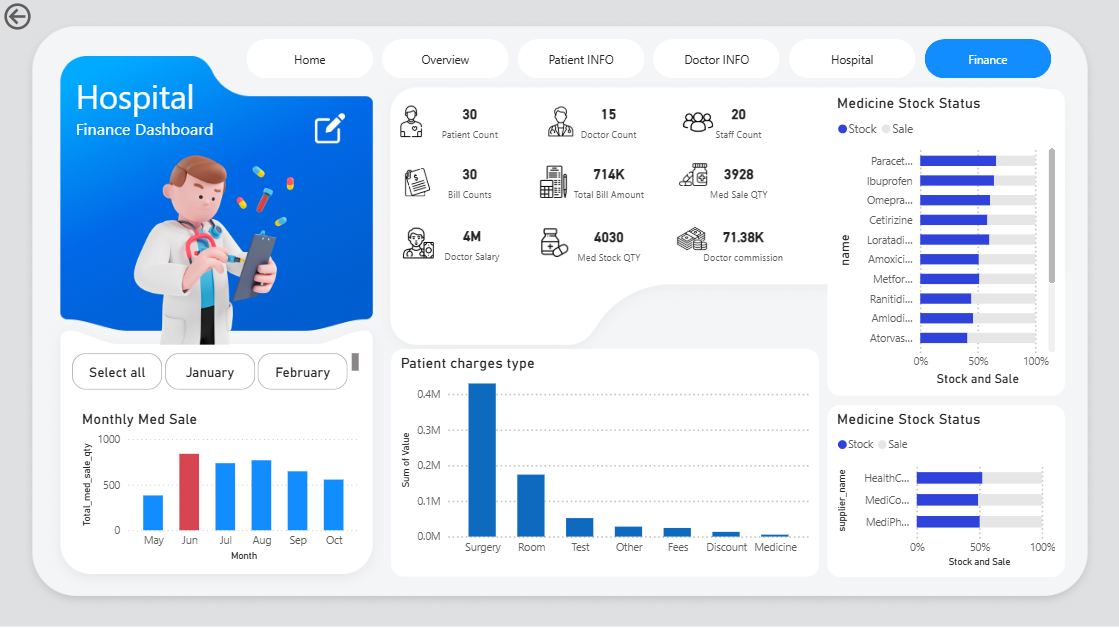

This screenshot's page, from the dashboard's own definition file:
{"tool":"powerbi","page":{"name":"Finance","canvas":[1280,720],"ordinal":5},"visuals":[{"type":"group","id":"g1","title":"Group 2","box":[446.7,40.4,90.5,5.2],"z":0,"group":"g2"},{"type":"image","box":[354.3,125.7,45.7,44.3],"z":0},{"type":"image","box":[588.9,40.7,67.9,4.8],"z":1000,"group":"g2"},{"type":"textbox","box":[81.7,81.7,192.6,109.7],"z":1000},{"type":"group","id":"g2","title":"Doctor_slicer","box":[446.7,40.4,210,5.2],"z":2000},{"type":"textbox","box":[446.7,40.4,90.5,5.2],"z":2000,"group":"g1"},{"type":"advancedSlicerVisual","title":"Ratings","fields":{"Values":["appointment.appointment_date.Variation.Date Hierarchy.Month"]},"box":[77.1,400,338.6,52.9],"z":3000},{"type":"actionButton","box":[0,0,100,40],"z":4000},{"type":"image","box":[95.3,161.2,304.7,238.2],"z":5000},{"type":"clusteredColumnChart","title":"Monthly Med Sale","fields":{"Y":["_Measures.Total_med_sale_qty"],"Category":["Calendar.Month"]},"box":[88.6,470,327.1,177.1],"z":6000},{"type":"clusteredColumnChart","title":"Patient charges type","fields":{"Category":["Bills.Charge_Type"],"Y":["Sum(Bills.Value)"]},"box":[447.5,400,488.8,260],"z":7000},{"type":"hundredPercentStackedBarChart","title":"Medicine Stock Status","fields":{"Category":["medical_stock_info.name"],"Y":["_Measures.Total_Stock_QTY","_Measures.Total_med_sale_qty"]},"box":[945,102.5,271.2,350],"z":8000},{"type":"hundredPercentStackedBarChart","title":"Medicine Stock Status","fields":{"Category":["medical_stock_info.supplier_name"],"Y":["_Measures.Total_Stock_QTY","_Measures.Total_med_sale_qty"]},"box":[945,464,271,196],"z":9000},{"type":"card","fields":{"Values":["_Measures.Patient_count"]},"box":[490,111.4,94.3,57.1],"z":10000},{"type":"card","fields":{"Values":["Count(patient_info.doctor_doctor_id)"]},"box":[647.9,111.4,94.3,57.1],"z":11000},{"type":"card","fields":{"Values":["Count(staff.staff_id)"]},"box":[797.1,111.4,94.3,57.1],"z":12000},{"type":"card","fields":{"Values":["Count(Bills.bill_id)"]},"box":[490,180,94.3,57.1],"z":13000},{"type":"card","fields":{"Values":["_Measures.Total_bill_amount"]},"box":[647.9,180,95,57.1],"z":14000},{"type":"card","fields":{"Values":["_Measures.Total_med_sale_qty"]},"box":[797.1,180,95,57.1],"z":15000},{"type":"card","fields":{"Values":["Sum(patient_info.doctor_salary)"]},"box":[492.1,249.3,93.6,57.1],"z":16000},{"type":"card","fields":{"Values":["_Measures.Total_Stock_QTY"]},"box":[647.9,250.7,95,57.1],"z":17000},{"type":"card","fields":{"Values":["_Measures.Dr_Commission_Amt"]},"box":[797.1,250.7,105,57.1],"z":18000},{"type":"image","box":[446.4,111.4,45.7,57.1],"z":19000},{"type":"image","box":[615,117.1,50,45.7],"z":20000},{"type":"image","box":[770.7,113.6,52.9,52.9],"z":21000},{"type":"image","box":[455.7,187.9,42.9,41.4],"z":22000},{"type":"image","box":[608.6,185.7,47.9,46.4],"z":23000},{"type":"image","box":[770.7,180,42.1,42.1],"z":24000},{"type":"image","box":[455.7,255,45,45.7],"z":25000},{"type":"image","box":[613.6,255,42.9,45.7],"z":26000},{"type":"image","box":[767.9,250.7,45,45],"z":27000},{"type":"pageNavigator","box":[281.4,45.7,922.9,45.7],"z":28000},{"type":"actionButton","box":[275.1,49.5,138.7,39.8],"z":29000},{"type":"actionButton","box":[591.2,50.7,138.7,39.8],"z":30000},{"type":"actionButton","box":[740.8,49.5,138.7,39.8],"z":31000},{"type":"actionButton","box":[901.2,49.5,138.7,39.8],"z":32000},{"type":"actionButton","box":[430.7,49.5,138.7,39.8],"z":33000}]}

Visuals, with their boxes in screenshot pixels (x1, y1, x2, y2), scaled from the page's 1280x720 canvas onto the 1119x628 screenshot:
"Group 2" group: bbox=(391, 35, 470, 40)
image: bbox=(310, 110, 350, 148)
image: bbox=(515, 35, 574, 40)
textbox: bbox=(71, 71, 240, 167)
"Doctor_slicer" group: bbox=(391, 35, 574, 40)
textbox: bbox=(391, 35, 470, 40)
"Ratings" advancedSlicerVisual: bbox=(67, 349, 363, 395)
actionButton: bbox=(0, 0, 87, 35)
image: bbox=(83, 141, 350, 348)
"Monthly Med Sale" clusteredColumnChart: bbox=(77, 410, 363, 564)
"Patient charges type" clusteredColumnChart: bbox=(391, 349, 819, 576)
"Medicine Stock Status" hundredPercentStackedBarChart: bbox=(826, 89, 1063, 395)
"Medicine Stock Status" hundredPercentStackedBarChart: bbox=(826, 405, 1063, 576)
card - _Measures.Patient_count: bbox=(428, 97, 511, 147)
card - Count(patient_info.doctor_doctor_id): bbox=(566, 97, 649, 147)
card - Count(staff.staff_id): bbox=(697, 97, 779, 147)
card - Count(Bills.bill_id): bbox=(428, 157, 511, 207)
card - _Measures.Total_bill_amount: bbox=(566, 157, 649, 207)
card - _Measures.Total_med_sale_qty: bbox=(697, 157, 780, 207)
card - Sum(patient_info.doctor_salary): bbox=(430, 217, 512, 267)
card - _Measures.Total_Stock_QTY: bbox=(566, 219, 649, 268)
card - _Measures.Dr_Commission_Amt: bbox=(697, 219, 789, 268)
image: bbox=(390, 97, 430, 147)
image: bbox=(538, 102, 581, 142)
image: bbox=(674, 99, 720, 145)
image: bbox=(398, 164, 436, 200)
image: bbox=(532, 162, 574, 202)
image: bbox=(674, 157, 711, 194)
image: bbox=(398, 222, 438, 262)
image: bbox=(536, 222, 574, 262)
image: bbox=(671, 219, 711, 258)
pageNavigator: bbox=(246, 40, 1053, 80)
actionButton: bbox=(240, 43, 362, 78)
actionButton: bbox=(517, 44, 638, 79)
actionButton: bbox=(648, 43, 769, 78)
actionButton: bbox=(788, 43, 909, 78)
actionButton: bbox=(377, 43, 498, 78)
